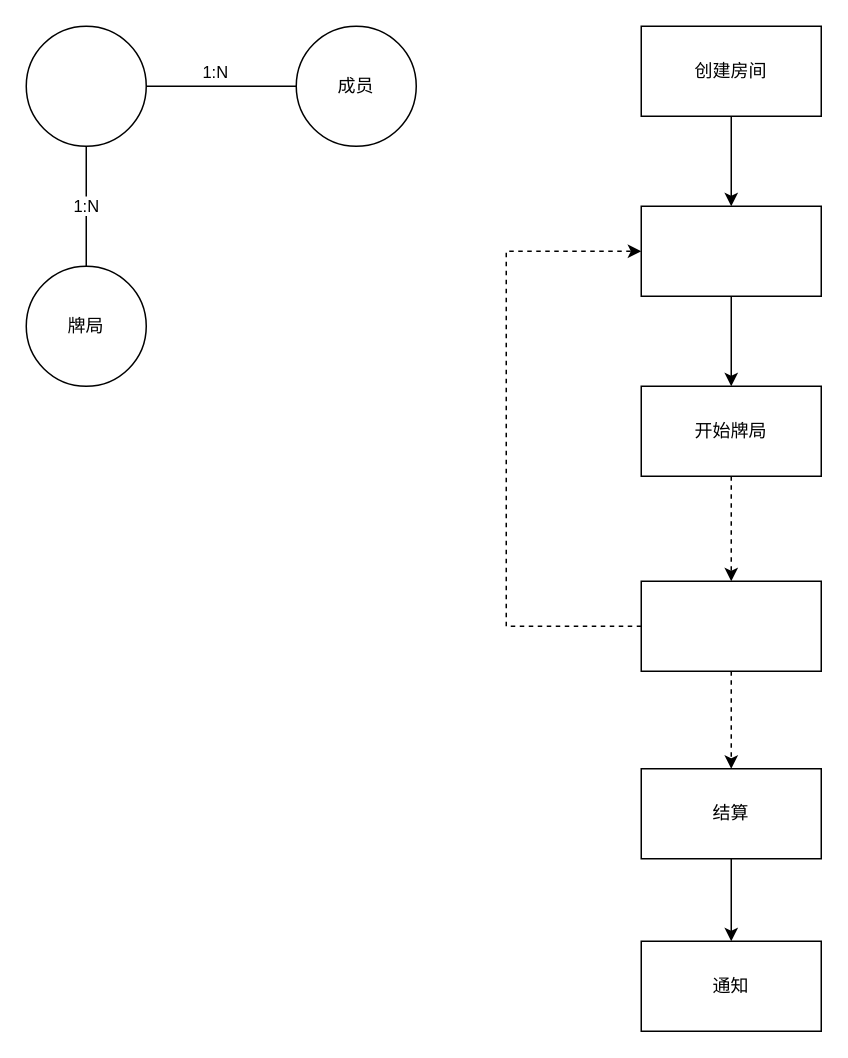
Some shapes in this 848 by 1058 pixel diagram are drawn without their labels. The shapes that lost their labels are listed below. From the top down, each one's centre as x and y in pixels, then its label:
At point 85,85: "房间".
At point 730,250: "邀请成员".
At point 730,625: "牌局1...N".
